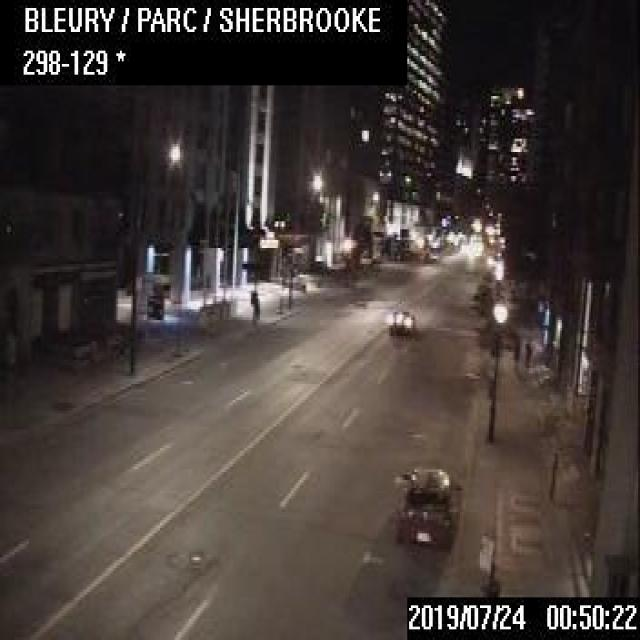pedestrian: (511, 336, 518, 368), (522, 340, 530, 367)
vehicle: (391, 461, 460, 547), (386, 306, 414, 333)
